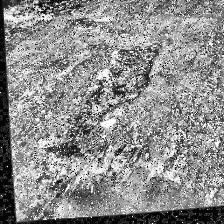pothole: (70, 42, 166, 128)
